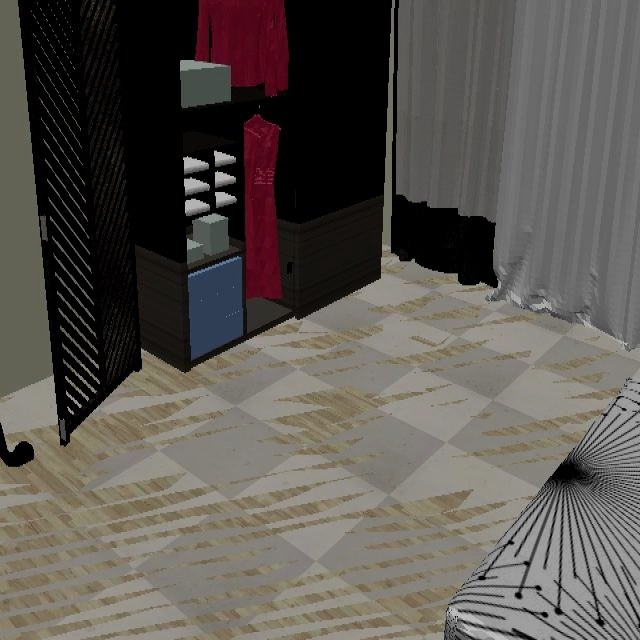bed: (442, 371, 640, 640)
wardrobe: (121, 0, 391, 373)
